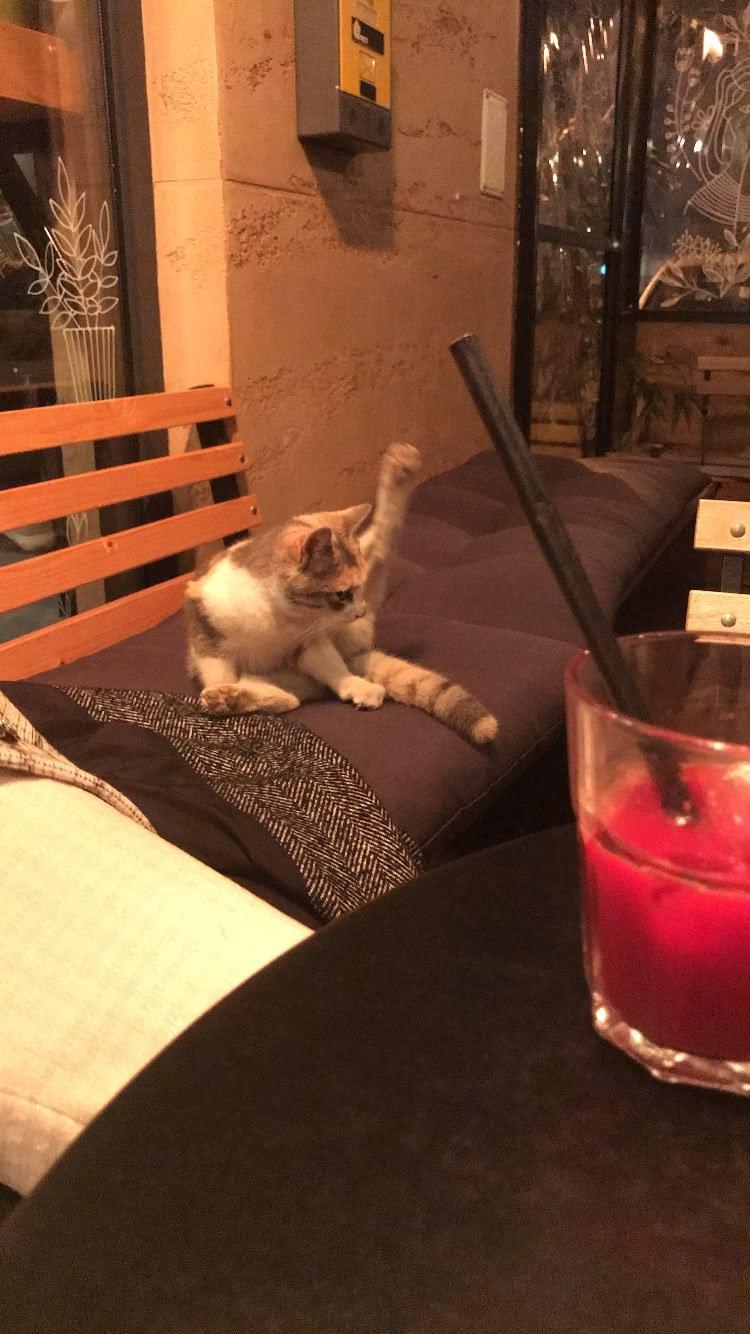macka: (184, 441, 502, 747)
